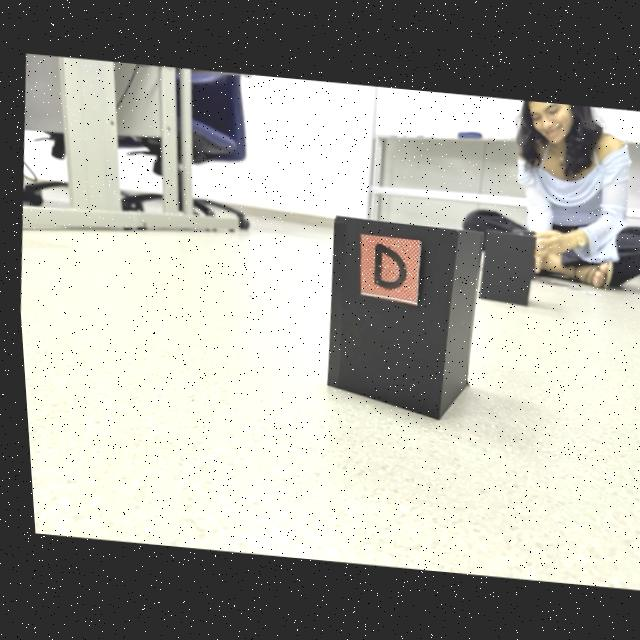D: (369, 243, 402, 288)
